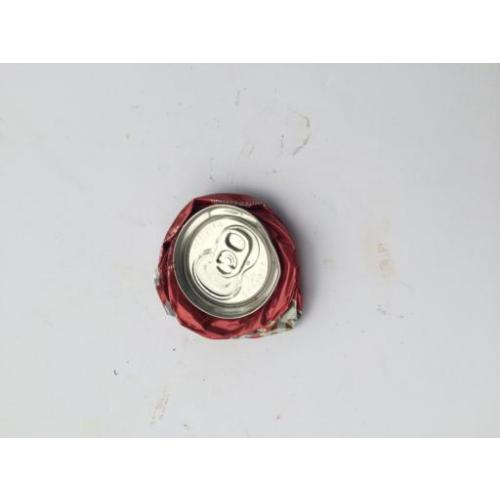metal: (159, 191, 306, 342)
